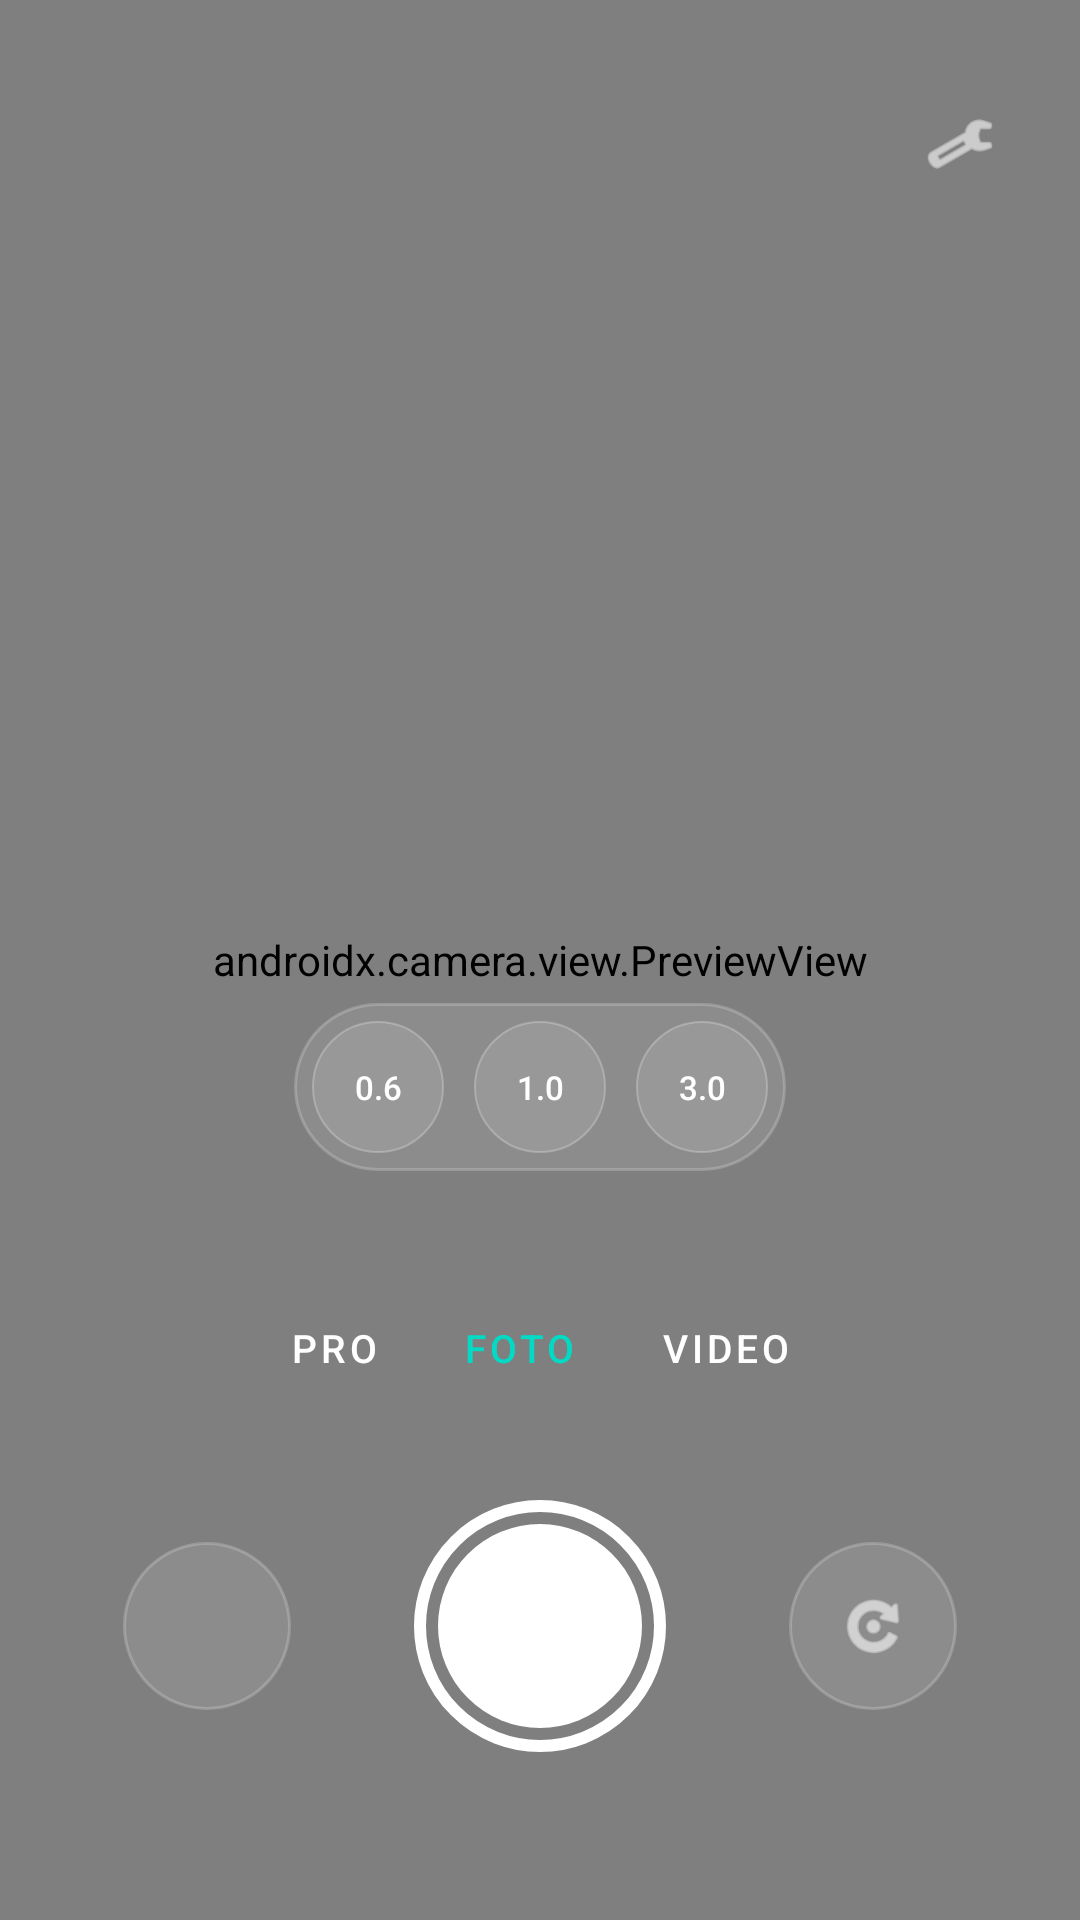

Where to tap for icons on this 1080 × 1920 app screen, as [x,y]:
preferences: [960,144]
rotate: [873,1626]
